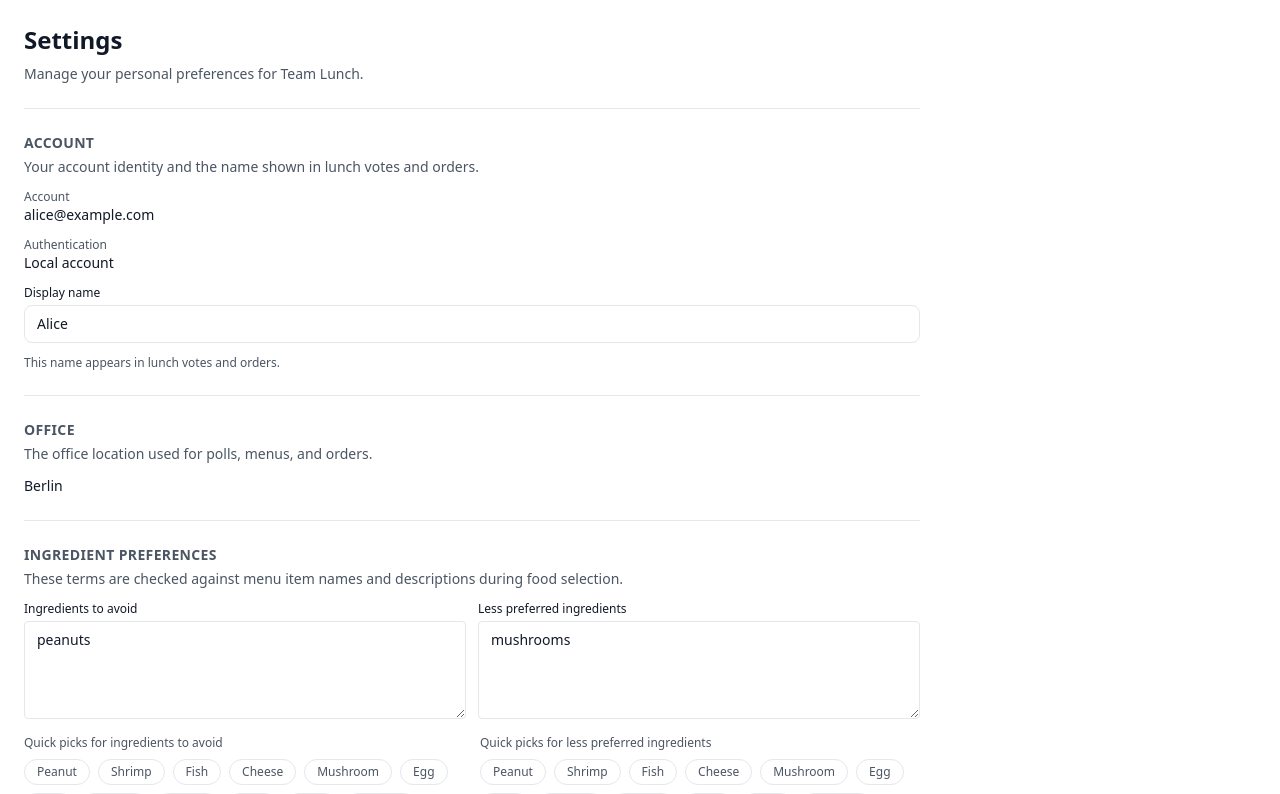
Settings › saves ingredient preferences from the settings-wide save button
The width and height of the screenshot is (1280, 794).
Replace the text in the text box labelled "Ingredients to avoid" with "peanuts, shrimp" at (245, 670), box x1=24 y1=621 x2=466 y2=719
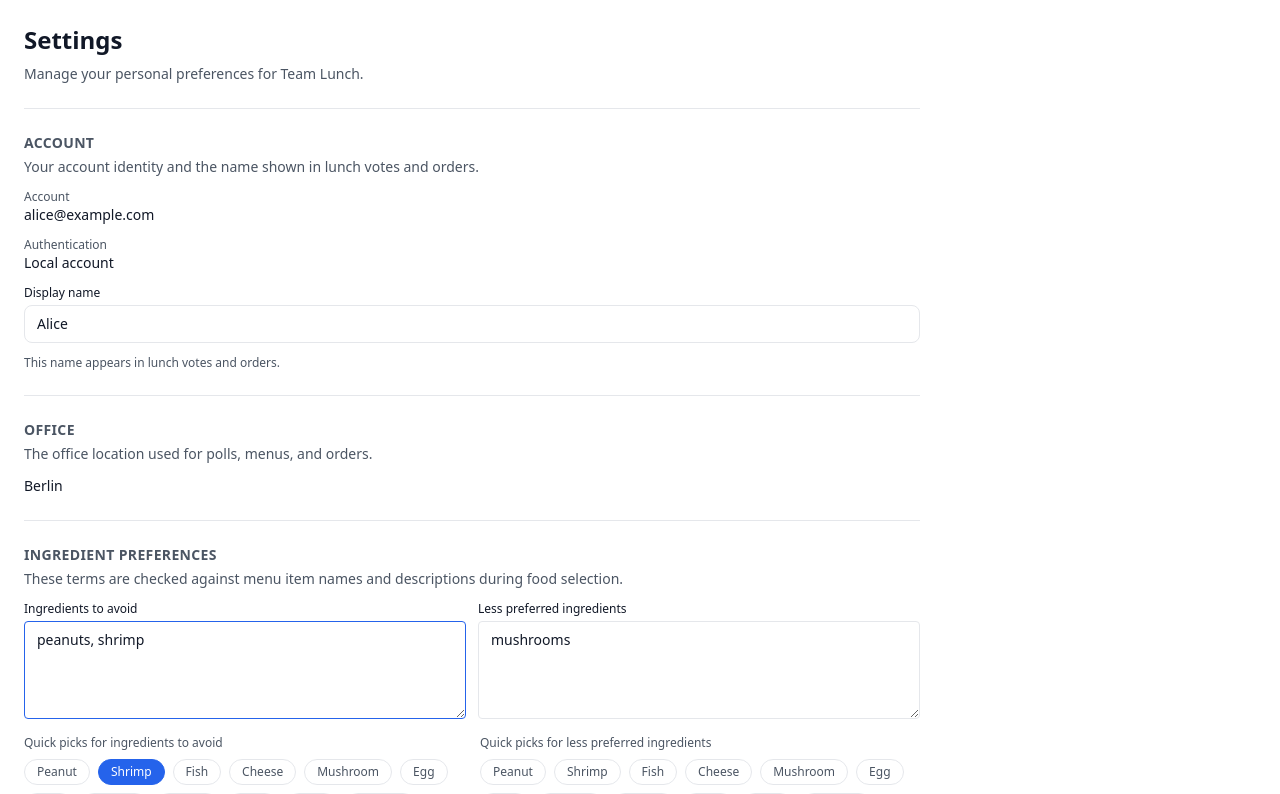
Replace the text in the text box labelled "Less preferred ingredients" with "mushrooms; onions" at (699, 670), box x1=478 y1=621 x2=920 y2=719
(page scrolled)
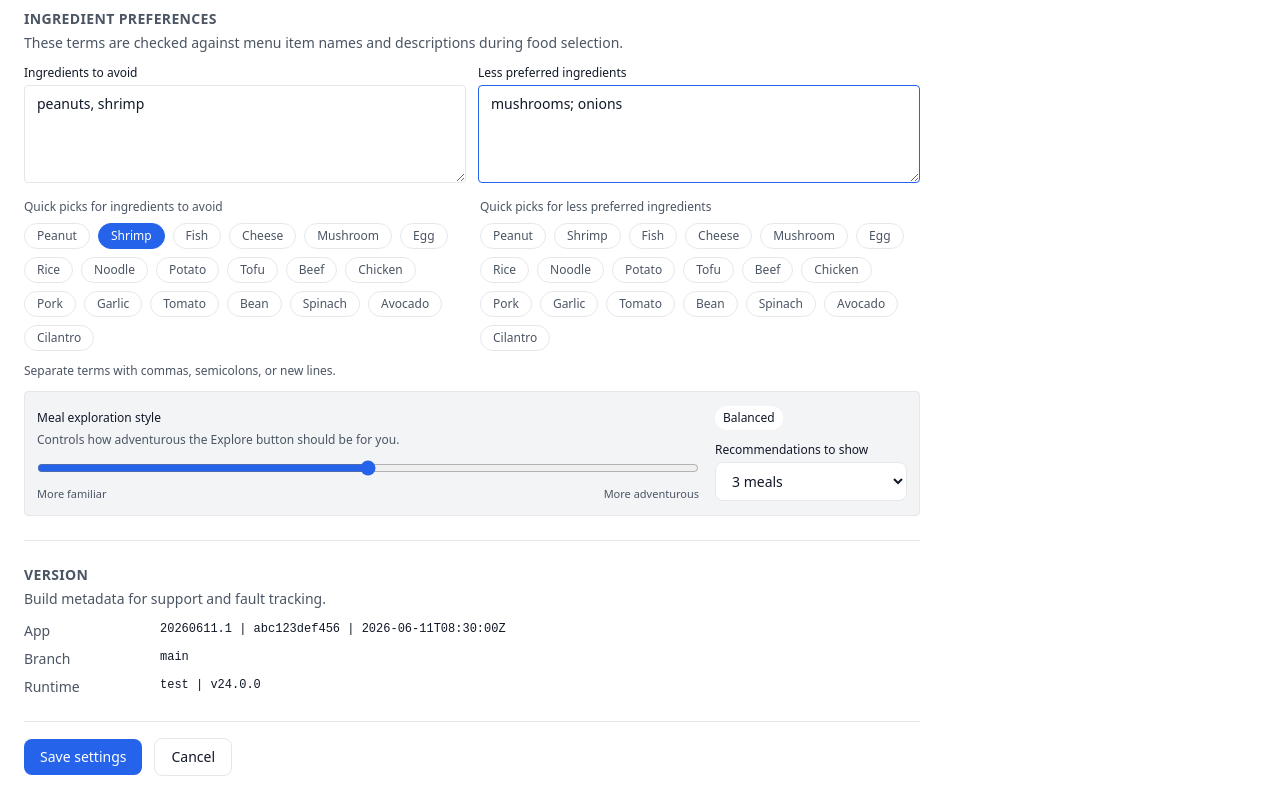
Click the button "Save settings" at (83, 756), box x1=24 y1=738 x2=142 y2=774
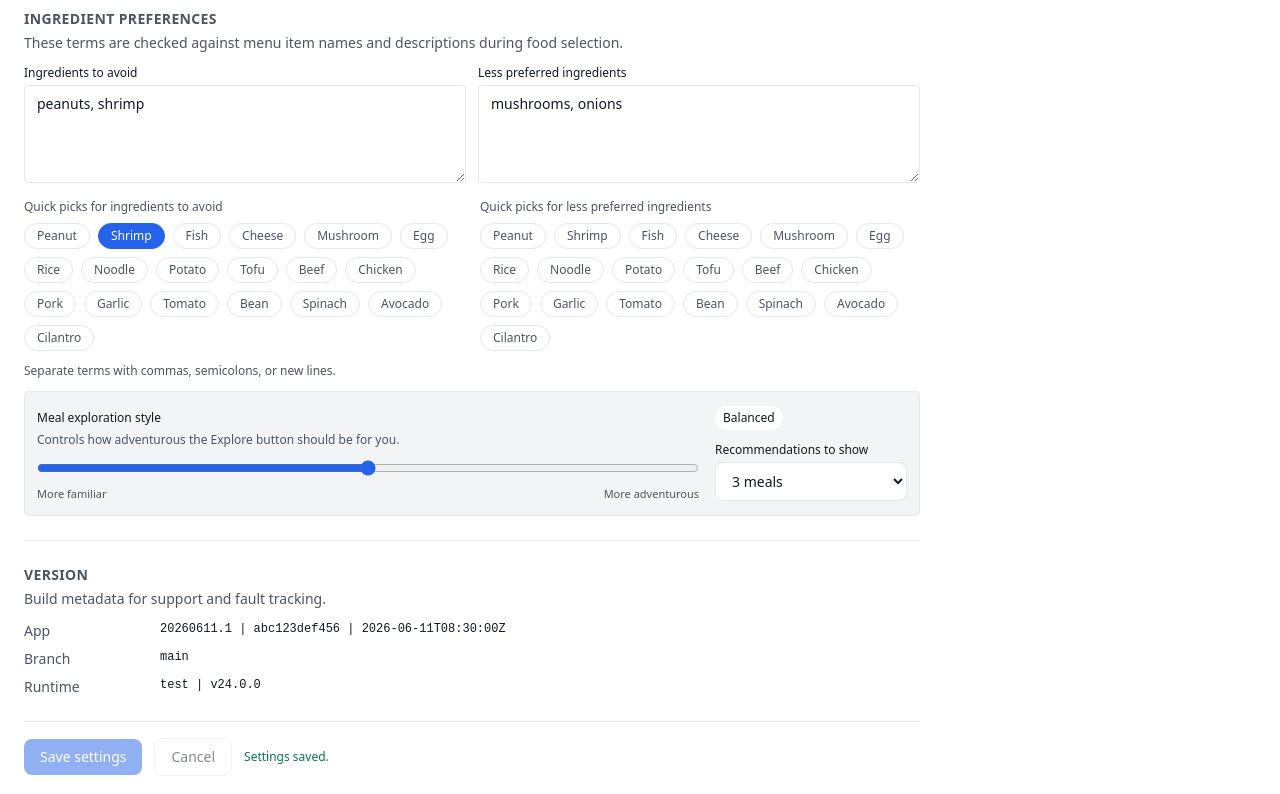
Expected: the text "Settings saved." is shown, x1=244 y1=748 x2=329 y2=764
